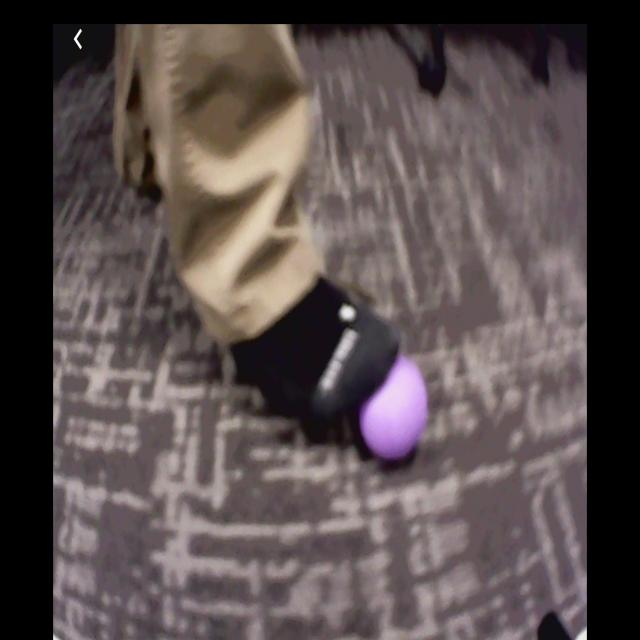ball: (361, 358, 429, 462)
